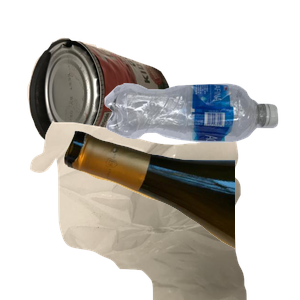glass: (60, 128, 300, 300)
metal: (25, 35, 189, 180)
plastic: (102, 81, 300, 216)
trash: (28, 120, 267, 300)
